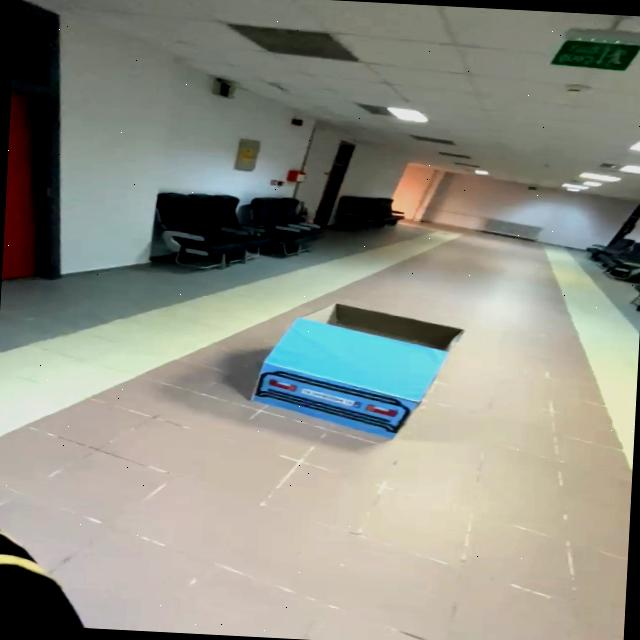blue_car: (237, 287, 490, 449)
